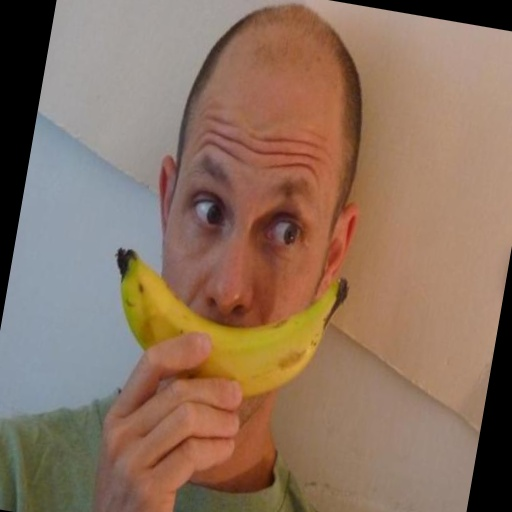fruit: (117, 248, 348, 396)
